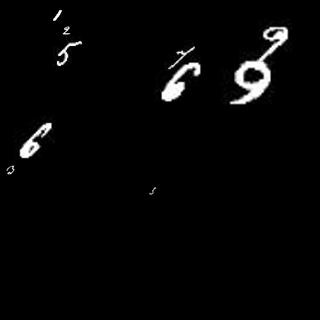five: (56, 40, 91, 70), (145, 183, 158, 196)
nine: (225, 62, 277, 110), (257, 23, 293, 61)
one: (53, 5, 61, 20)
seven: (165, 42, 198, 70)
six: (159, 63, 206, 103), (21, 122, 52, 160)
three: (6, 161, 17, 177)
two: (58, 24, 72, 37)
